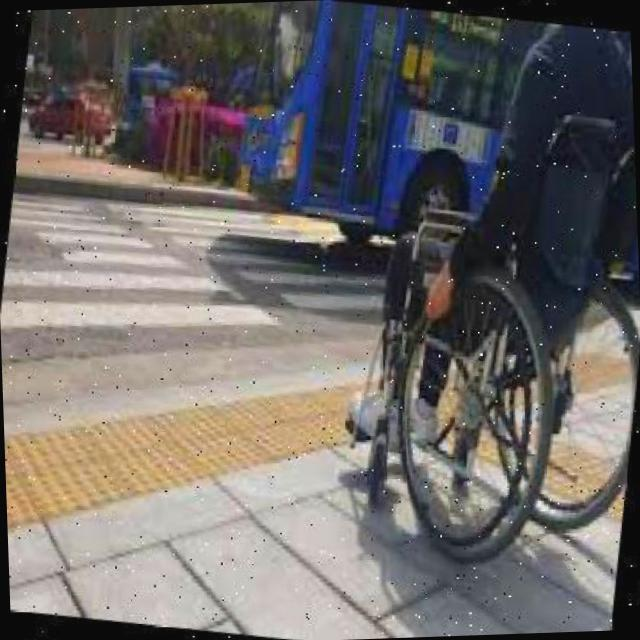Person: (307, 0, 640, 590)
